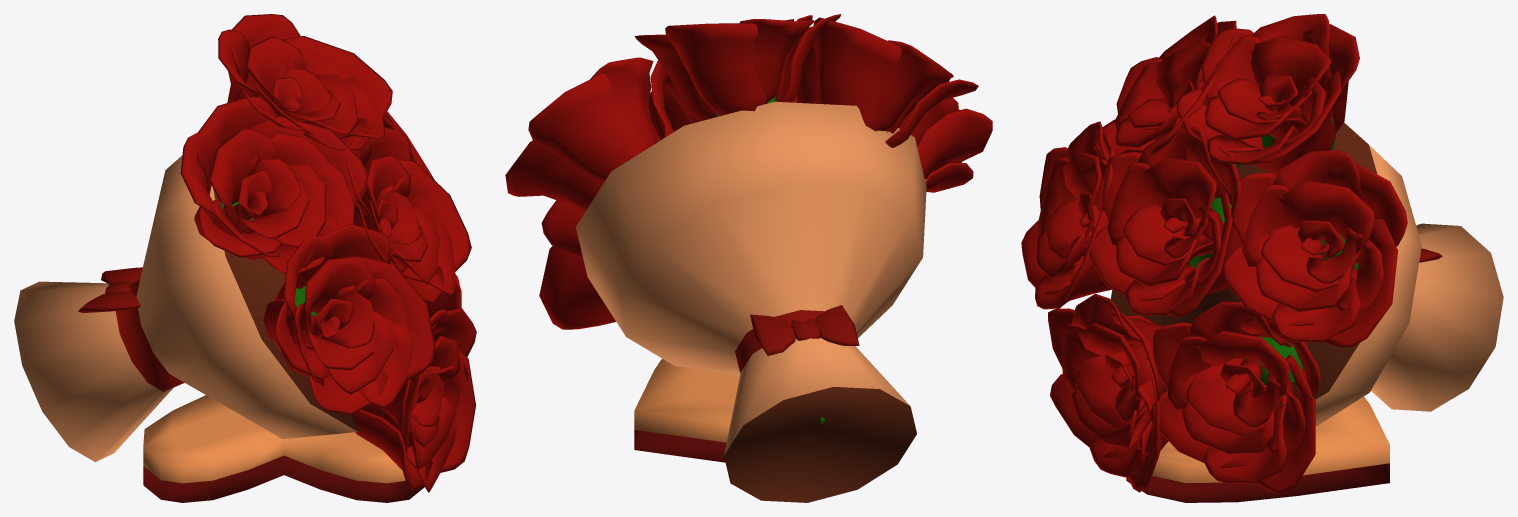
File: valentim.gltf
The picture shows the model from 3 angles, left to right: view 1: azimuth 30°, elevation 25°; view 2: azimuth 150°, elevation 25°; view 3: azimuth 270°, elevation 25°; orthographic projection. The views are drawn at different scales.
Visible parts, largest first — view 1: Cylinder.010_2, Cube.001_3; view 2: Cube.001_3, Cylinder.010_2; view 3: Cylinder.010_2, Cube.001_3.
Boxes of the visible parts, x1=… form: Cylinder.010_2: x1=180, y1=14, x2=476, y2=492; Cube.001_3: x1=14, y1=155, x2=424, y2=502; Cube.001_3: x1=576, y1=101, x2=926, y2=502; Cylinder.010_2: x1=505, y1=14, x2=992, y2=423; Cylinder.010_2: x1=1021, y1=14, x2=1407, y2=494; Cube.001_3: x1=1110, y1=122, x2=1503, y2=502.
Bounding box in the file's own units: 4.47 × 4.57 × 4.62.
